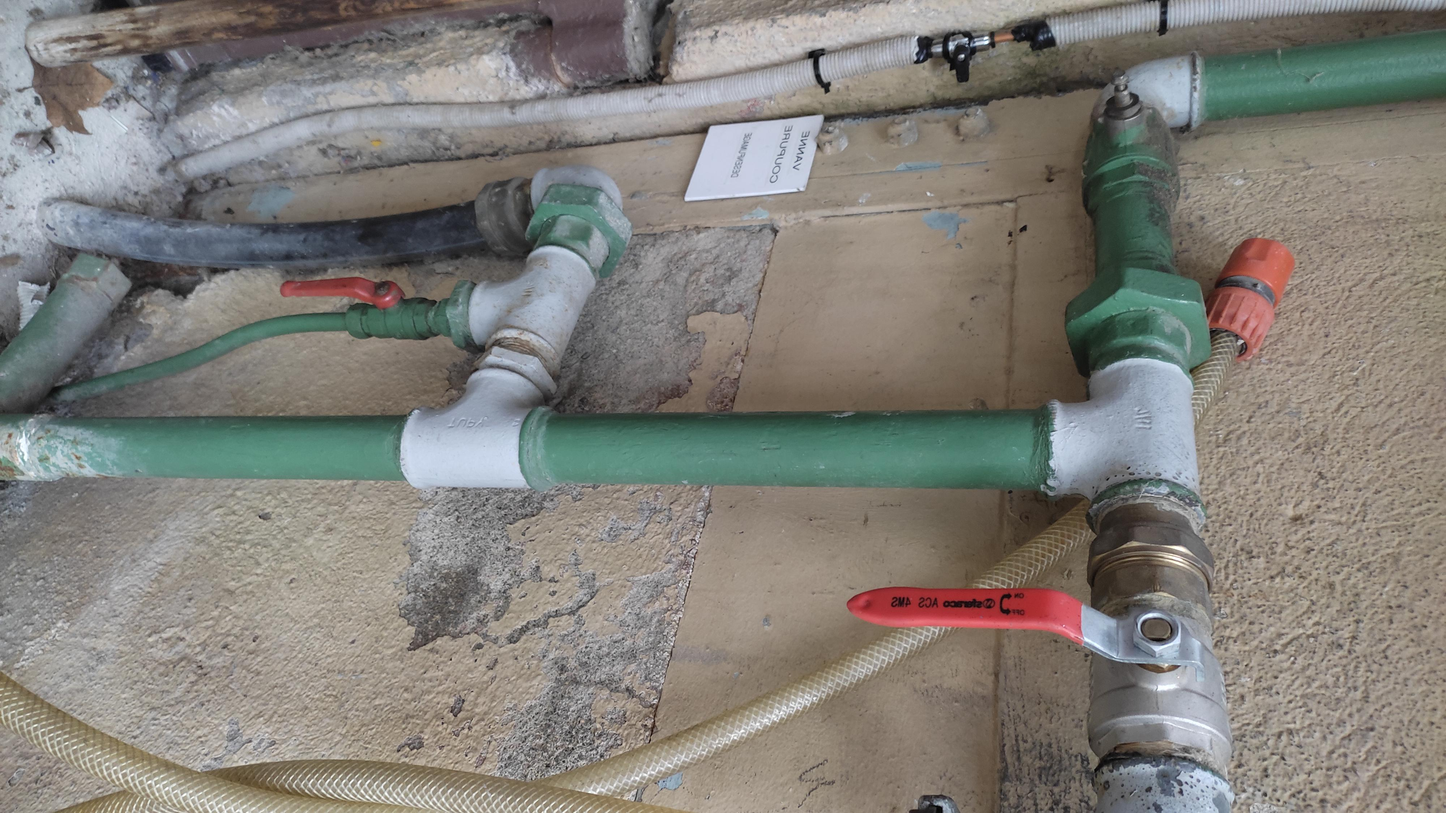closed valve: (841, 560, 1236, 747)
opened valve: (277, 276, 445, 345)
